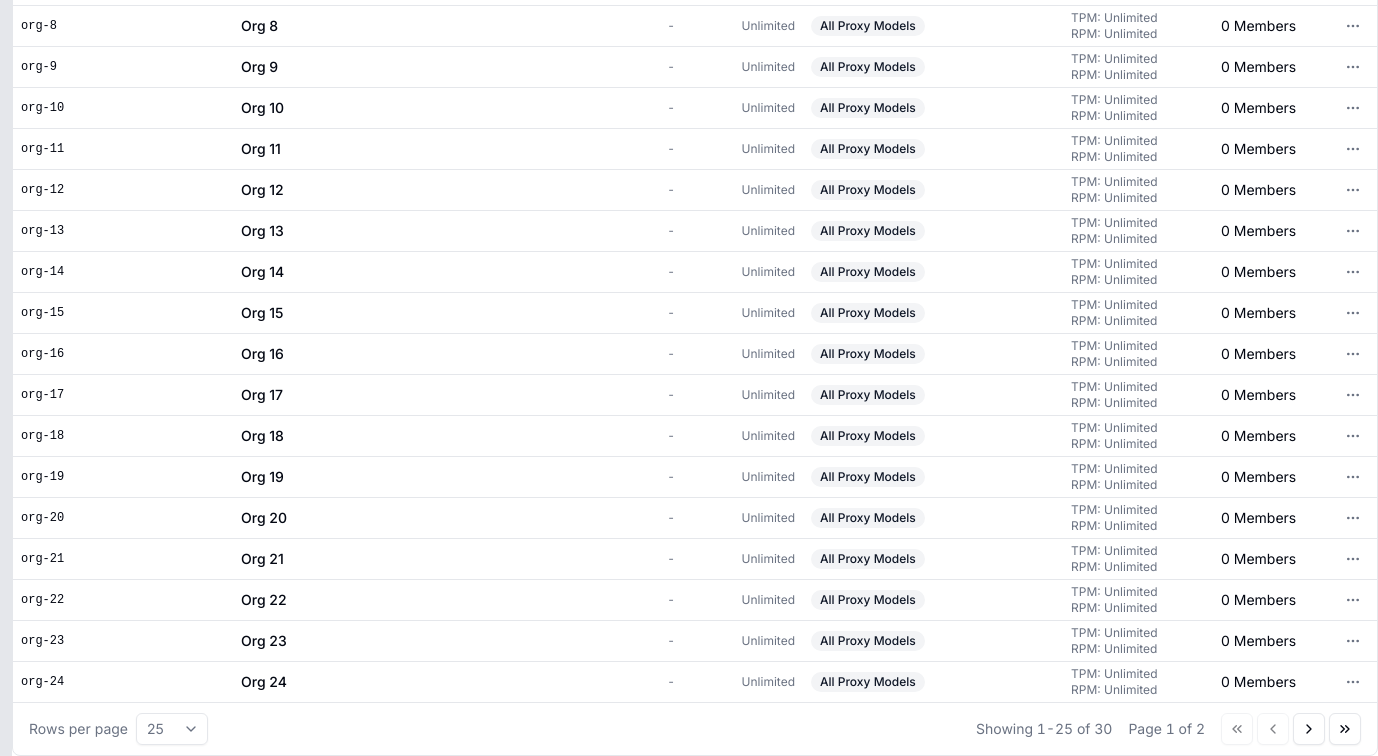
Test: OrganizationsTable › pages long lists client-side with the shared size selector and footer
The image size is (1378, 756).
(page scrolled)
Expected: the text with test id "pagination-range" reads "Showing 1-25 of 30", [976,720,1112,736]
Click the dropdown with test id "pagination-page-size" at (172, 728), box [136,712,208,744]
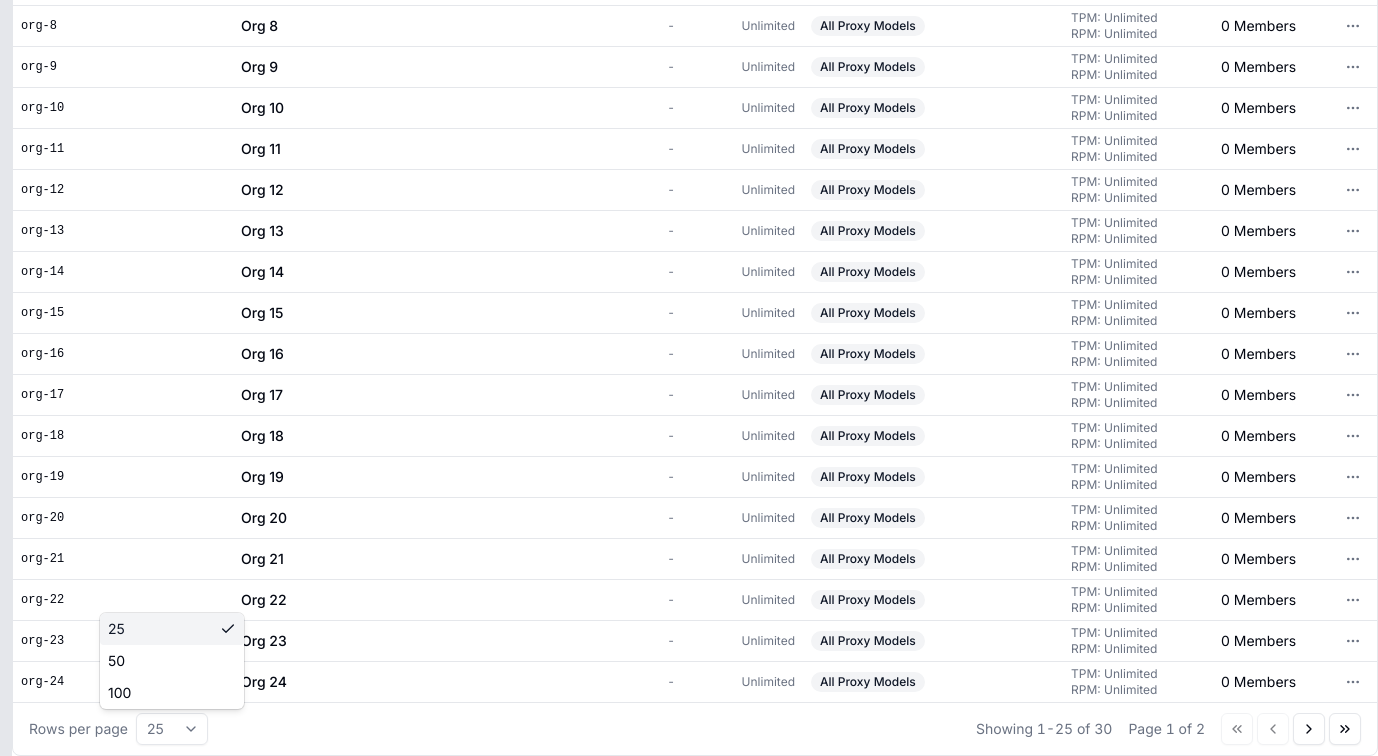
Click the option "50" at (117, 660), box [108,652,125,669]
(page scrolled)
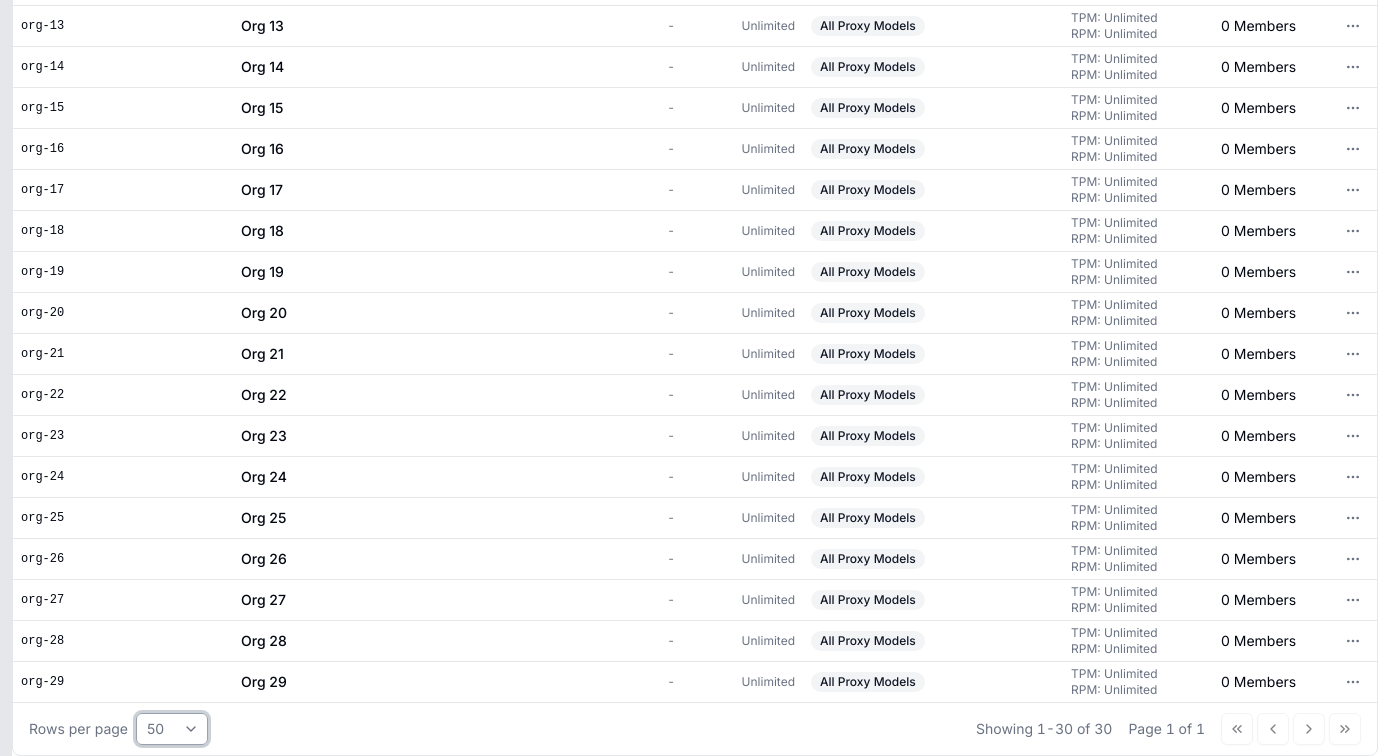
Result: the text with test id "pagination-range" reads "Showing 1-30 of 30" at [976,720,1112,736]
